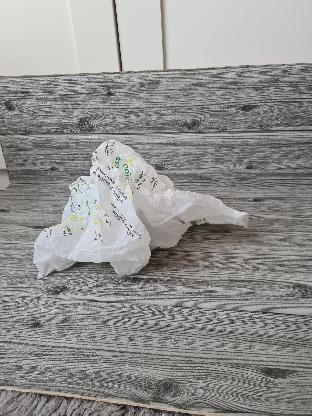Plastic Bag: (33, 140, 248, 280)
